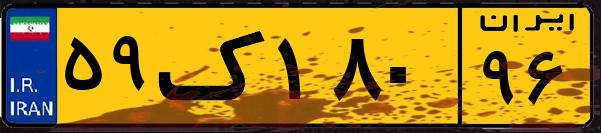0: (385, 28, 445, 110)
1: (270, 28, 330, 110)
5: (57, 26, 110, 100)
6: (525, 38, 570, 115)
8: (330, 28, 385, 110)
9: (475, 38, 525, 113), (110, 28, 158, 98)
ک: (158, 12, 270, 120)
